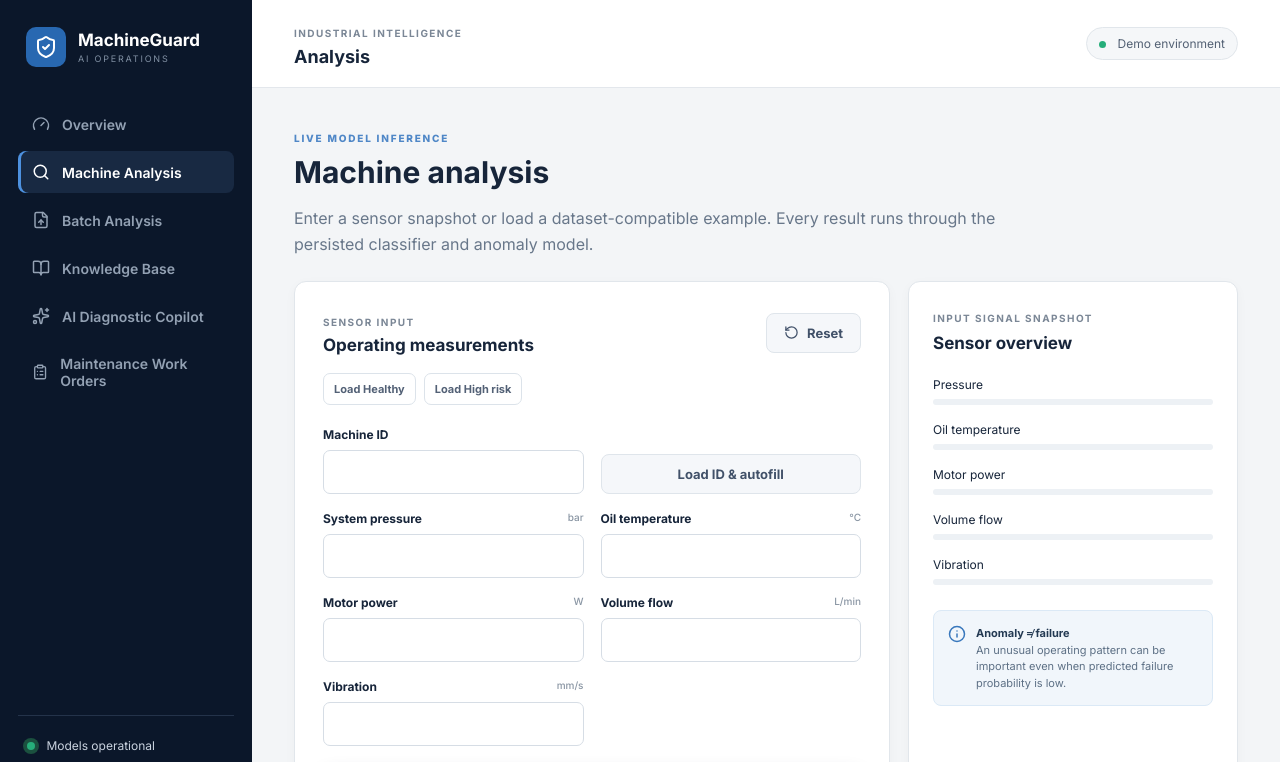
machine analysis › renders a successful API response
This screenshot has width=1280, height=762.
What coordinates should you click on to do the following:
click the button "Load Healthy"
I would click on:
 (369, 389)
Its box is x1=323 y1=373 x2=416 y2=405.
(page scrolled)
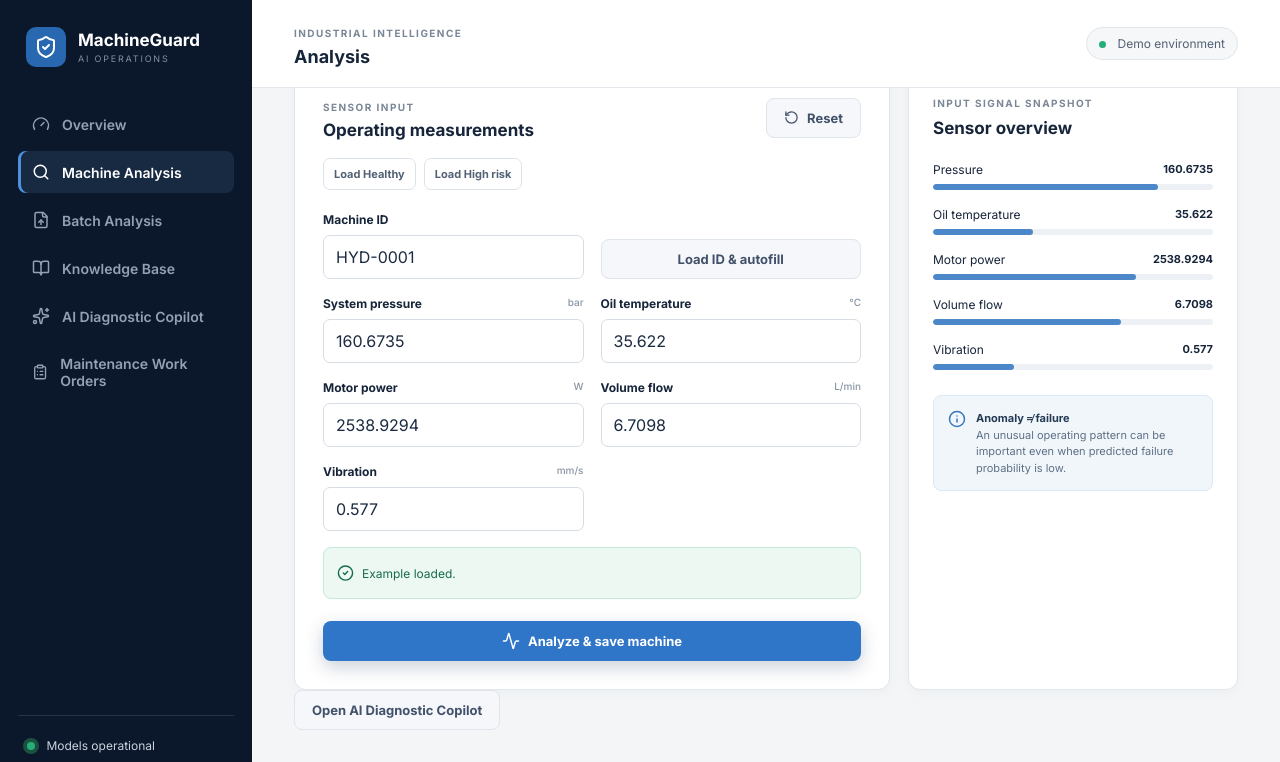
What coordinates should you click on to do the following:
click the button "Analyze & save machine"
I would click on:
 (592, 641)
Its box is x1=323 y1=621 x2=861 y2=661.
(page scrolled)
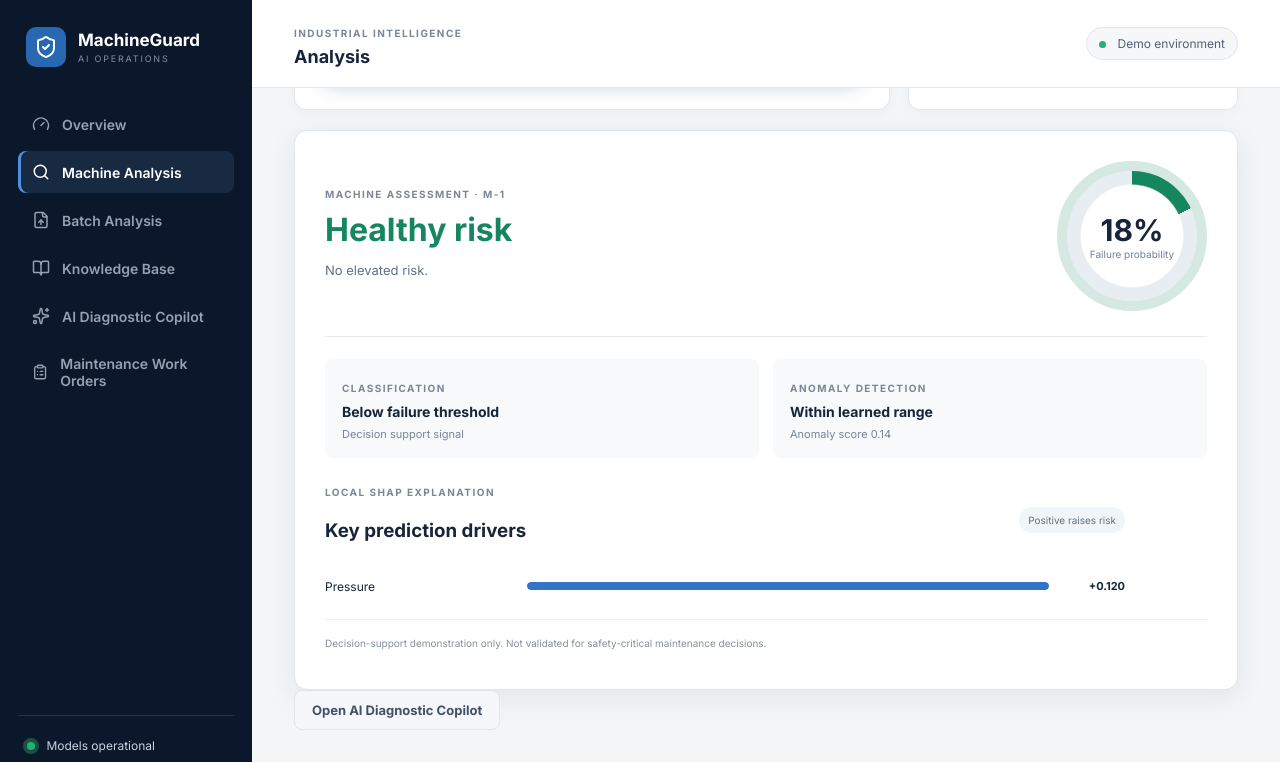
Result: the text "18%" is shown at x1=1100 y1=212 x2=1163 y2=248
